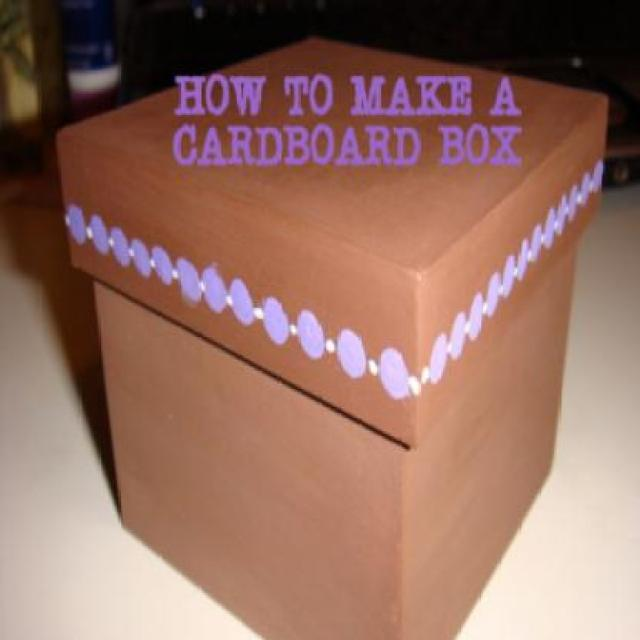box: (48, 31, 624, 640)
